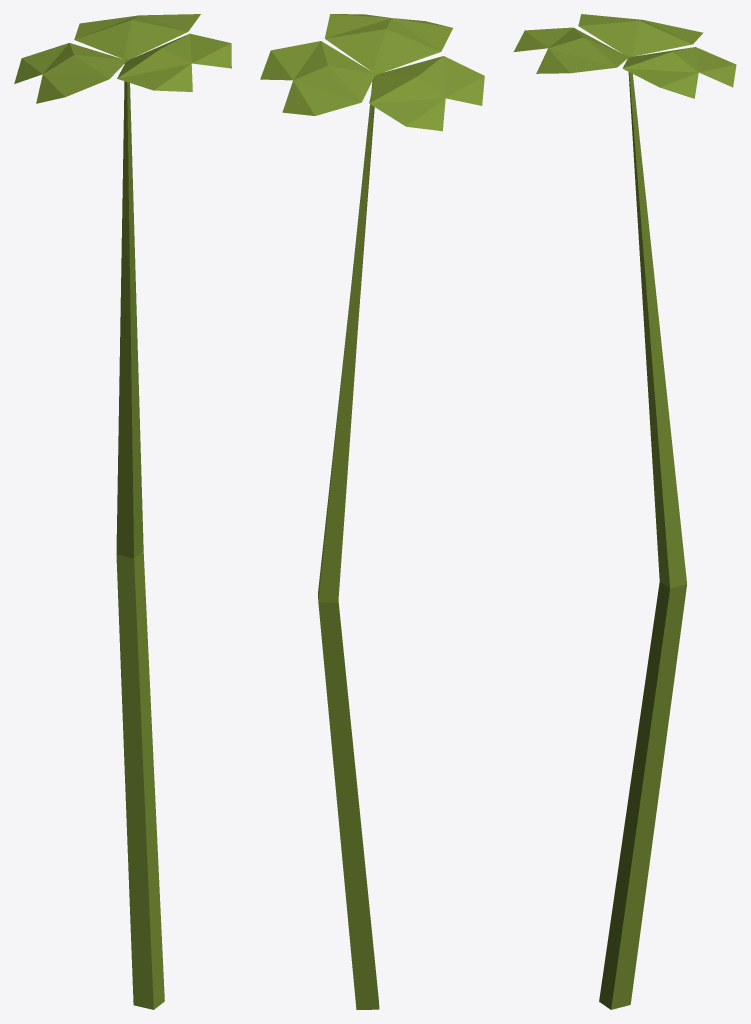
The model's file is Clover_1_1.fbx.
The picture shows the model from 3 angles, left to right: view 1: azimuth 30°, elevation 25°; view 2: azimuth 150°, elevation 25°; view 3: azimuth 270°, elevation 25°; orthographic projection.
Visible parts, largest first — view 1: Clover_1_1; view 2: Clover_1_1; view 3: Clover_1_1.
Part boxes in pixels (x1,y1,x2,y2): Clover_1_1: (14, 14, 231, 1009); Clover_1_1: (260, 14, 484, 1009); Clover_1_1: (513, 14, 736, 1009).
Bounding box in the file's own units: 0.0493 × 0.2416 × 0.0507.
